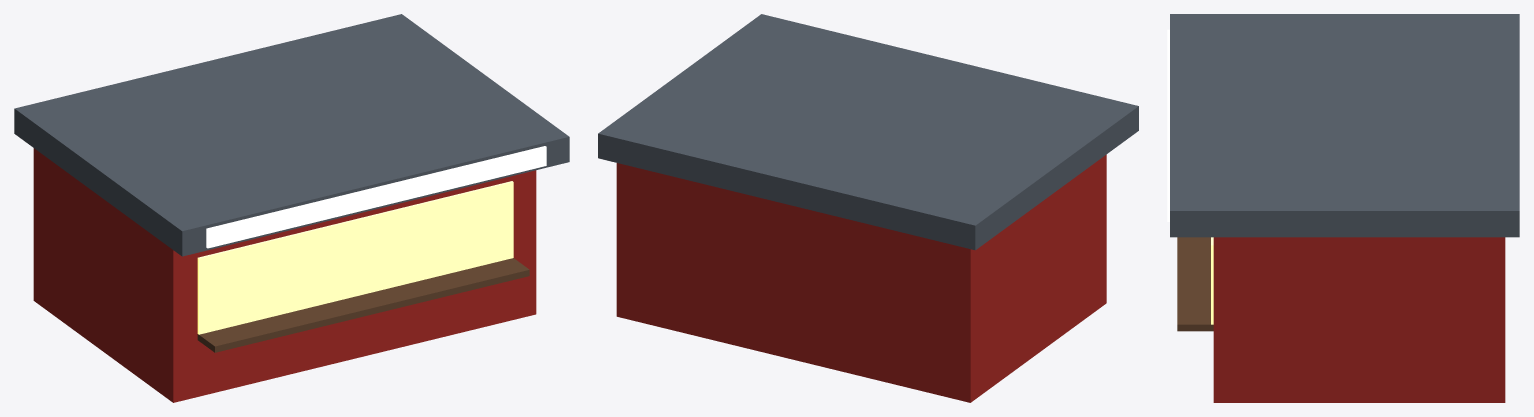
The model's file is cp_kiosk.glb.
The picture shows the model from 3 angles, left to right: view 1: azimuth 30°, elevation 25°; view 2: azimuth 150°, elevation 25°; view 3: azimuth 270°, elevation 25°; orthographic projection. The views are drawn at different scales.
Parts seen in each view (by area): view 1: city_cp_kiosk; view 2: city_cp_kiosk; view 3: city_cp_kiosk.
Boxes of the visible parts, box(x1,y1,x2,y2) form: city_cp_kiosk: box(14, 14, 569, 402); city_cp_kiosk: box(598, 14, 1138, 402); city_cp_kiosk: box(1167, 14, 1519, 402).
Size of the model in its own units: 6.4 by 3 by 4.84.
2 materials, 2 textured.
